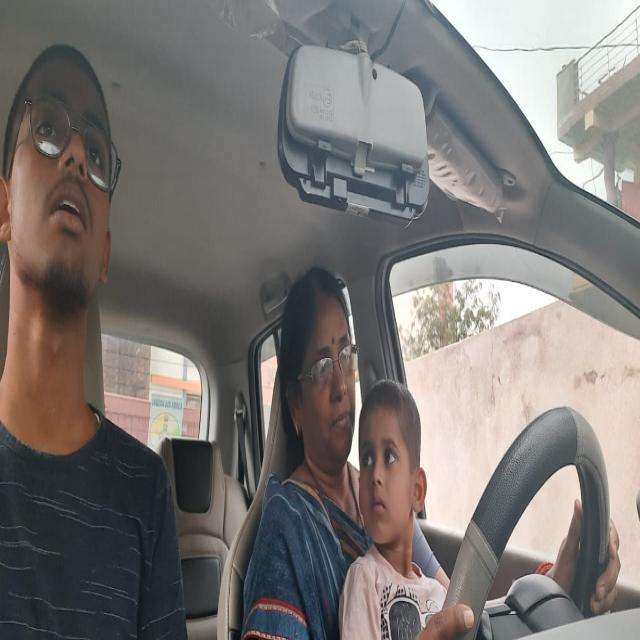child: (358, 384, 427, 546)
person: (0, 32, 120, 340), (278, 266, 362, 472)
